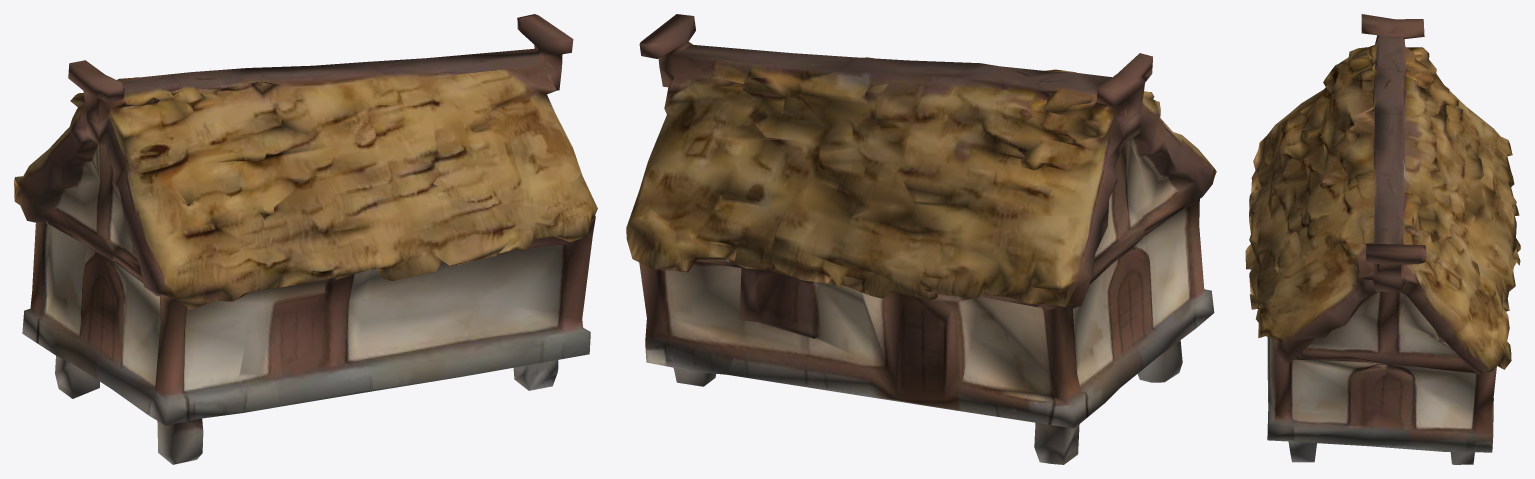
File: roof_thatch.glb
3 views of the same model, side by side, from view 1: azimuth 30°, elevation 25°; view 2: azimuth 150°, elevation 25°; view 3: azimuth 270°, elevation 25° (orthographic). The views are drawn at different scales.
Parts seen in each view (by area): view 1: tripo_node_2415188b-bb16-4a28-8067-a22723ddfa1a; view 2: tripo_node_2415188b-bb16-4a28-8067-a22723ddfa1a; view 3: tripo_node_2415188b-bb16-4a28-8067-a22723ddfa1a.
Part boxes in pixels (x1,y1,x2,y2): tripo_node_2415188b-bb16-4a28-8067-a22723ddfa1a: [14, 14, 597, 464]; tripo_node_2415188b-bb16-4a28-8067-a22723ddfa1a: [626, 14, 1216, 464]; tripo_node_2415188b-bb16-4a28-8067-a22723ddfa1a: [1245, 14, 1520, 464].
Size of the model in its own units: 0.9113 by 0.6765 by 0.5715.
1 material, 1 textured.
